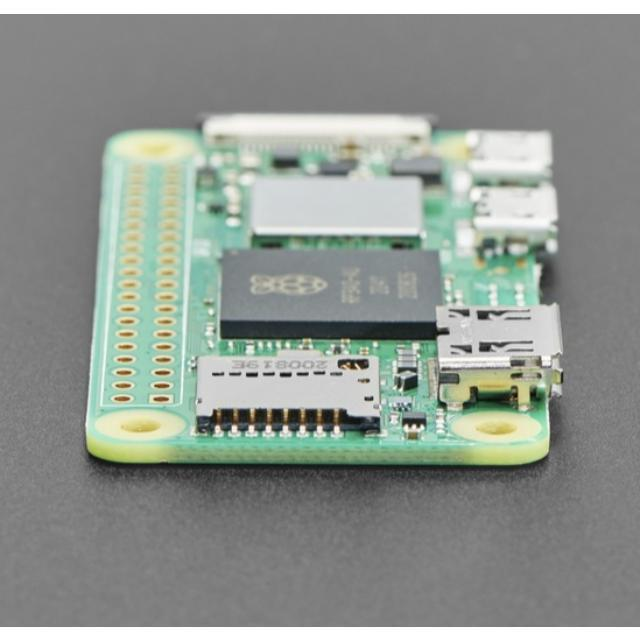Raspberry-Pi-Zero-2-W: (86, 115, 565, 467)
